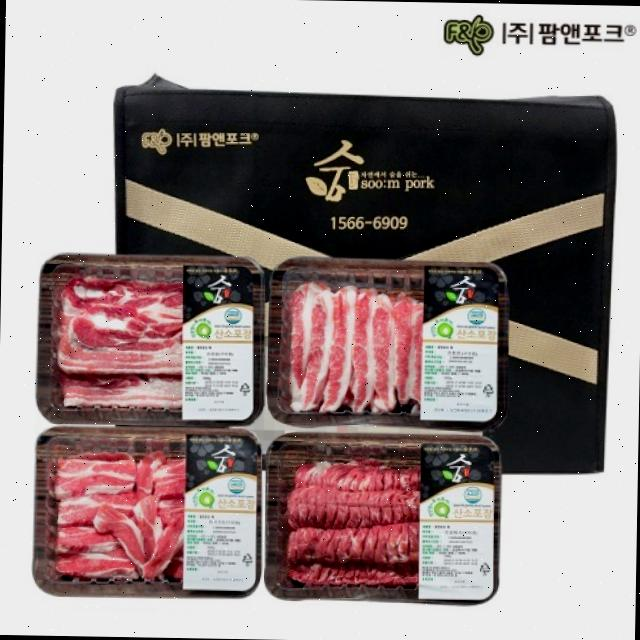meat: (25, 228, 518, 622)
